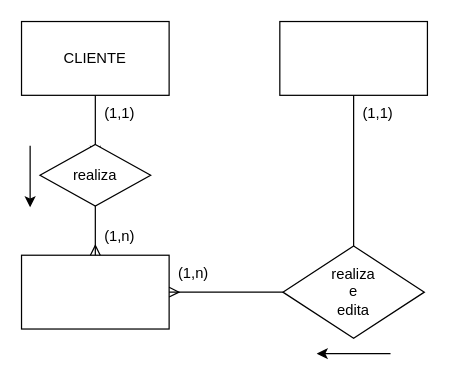
The diagram is 449 pixels wide and 385 high, and some of its shapes have lost their labels. The centre of each missing label's shape, as x and y in pixels:
"FUNCIONÁRIO" belongs at [353,57].
"PEDIDO" belongs at [94,291].
